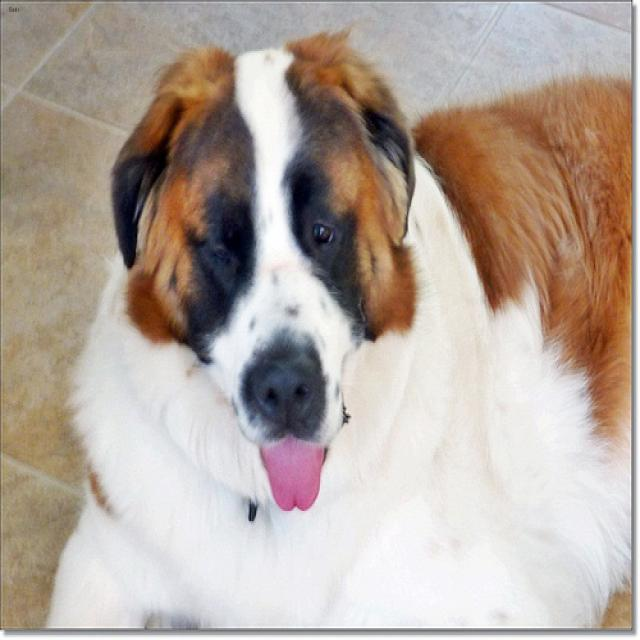dog-saint_bernard: (40, 24, 637, 637)
